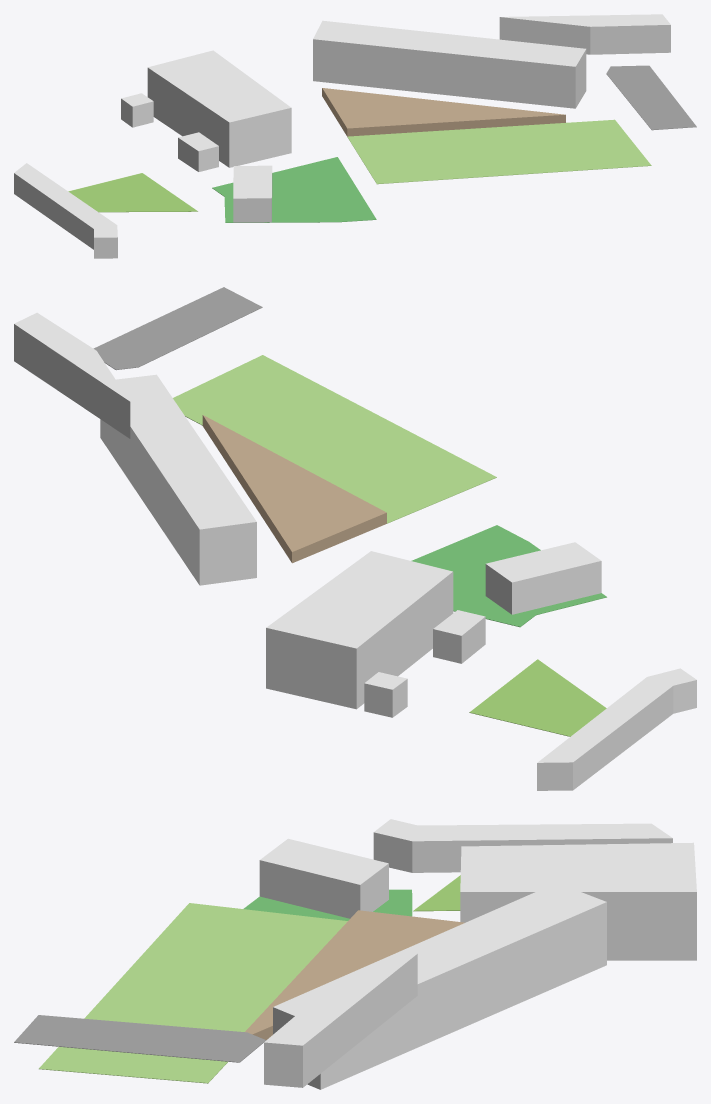
Rendered from massing.glb.
3 renders of one model, top to bottom at view 1: azimuth 30°, elevation 25°; view 2: azimuth 150°, elevation 25°; view 3: azimuth 270°, elevation 25°, orthographic. The views are drawn at different scales.
Visible parts, largest first — view 1: Mass_Multi_barn, Mass_Pasture, Mass_Home, Mass_Corral, Mass_Reception, Mass_Orchard, Mass_Cooking_deck, Mass_Parking, Mass_Garden, Mass_Greenhouse, Mass_Gym, Mass_Laundry_room; view 2: Mass_Pasture, Mass_Home, Mass_Multi_barn, Mass_Corral, Mass_Cooking_deck, Mass_Reception, Mass_Greenhouse, Mass_Orchard, Mass_Garden, Mass_Parking, Mass_Gym, Mass_Laundry_room; view 3: Mass_Multi_barn, Mass_Pasture, Mass_Home, Mass_Reception, Mass_Cooking_deck, Mass_Greenhouse, Mass_Parking, Mass_Corral, Mass_Orchard, Mass_Garden.
Boxes of the visible parts, x1=… form: Mass_Multi_barn: x1=313, y1=20, x2=586, y2=108; Mass_Pasture: x1=347, y1=119, x2=651, y2=184; Mass_Home: x1=147, y1=50, x2=291, y2=167; Mass_Corral: x1=322, y1=88, x2=565, y2=136; Mass_Reception: x1=499, y1=14, x2=670, y2=54; Mass_Orchard: x1=212, y1=157, x2=376, y2=222; Mass_Cooking_deck: x1=14, y1=163, x2=117, y2=258; Mass_Parking: x1=606, y1=65, x2=696, y2=130; Mass_Garden: x1=68, y1=173, x2=197, y2=212; Mass_Greenhouse: x1=233, y1=165, x2=272, y2=222; Mass_Gym: x1=178, y1=132, x2=218, y2=171; Mass_Laundry_room: x1=121, y1=93, x2=153, y2=127; Mass_Pasture: x1=173, y1=355, x2=496, y2=523; Mass_Home: x1=266, y1=551, x2=453, y2=709; Mass_Multi_barn: x1=100, y1=374, x2=256, y2=585; Mass_Corral: x1=202, y1=415, x2=386, y2=563; Mass_Cooking_deck: x1=537, y1=668, x2=696, y2=790; Mass_Reception: x1=14, y1=312, x2=130, y2=438; Mass_Greenhouse: x1=485, y1=542, x2=601, y2=614; Mass_Orchard: x1=411, y1=525, x2=606, y2=627; Mass_Garden: x1=469, y1=659, x2=606, y2=736; Mass_Parking: x1=93, y1=287, x2=262, y2=370; Mass_Gym: x1=433, y1=610, x2=485, y2=663; Mass_Laundry_room: x1=364, y1=672, x2=407, y2=717; Mass_Multi_barn: x1=273, y1=883, x2=606, y2=1089; Mass_Pasture: x1=39, y1=903, x2=347, y2=1083; Mass_Home: x1=460, y1=842, x2=696, y2=960; Mass_Reception: x1=264, y1=954, x2=417, y2=1087; Mass_Cooking_deck: x1=373, y1=819, x2=672, y2=872; Mass_Greenhouse: x1=259, y1=838, x2=388, y2=918; Mass_Parking: x1=14, y1=1015, x2=266, y2=1062; Mass_Corral: x1=245, y1=910, x2=464, y2=1039; Mass_Orchard: x1=243, y1=889, x2=412, y2=920; Mass_Garden: x1=413, y1=875, x2=460, y2=911.
Bounding box in the file's own units: 80.79 × 19.19 × 58.66.
